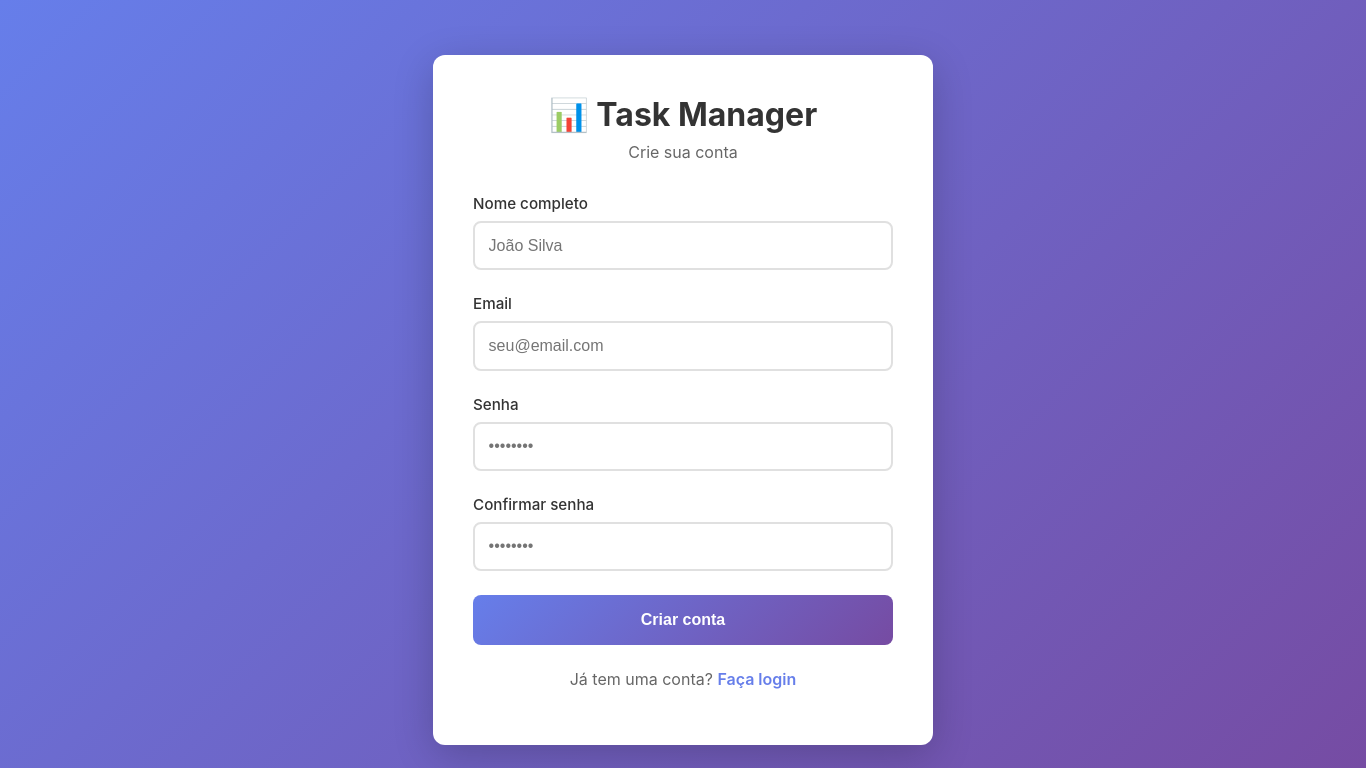
Register Page › deve validar nome mínimo de 3 caracteres
This screenshot has width=1366, height=768.
Type "Jo" into the field with test id "name-input". click: (683, 246)
box: [473,221,893,270]
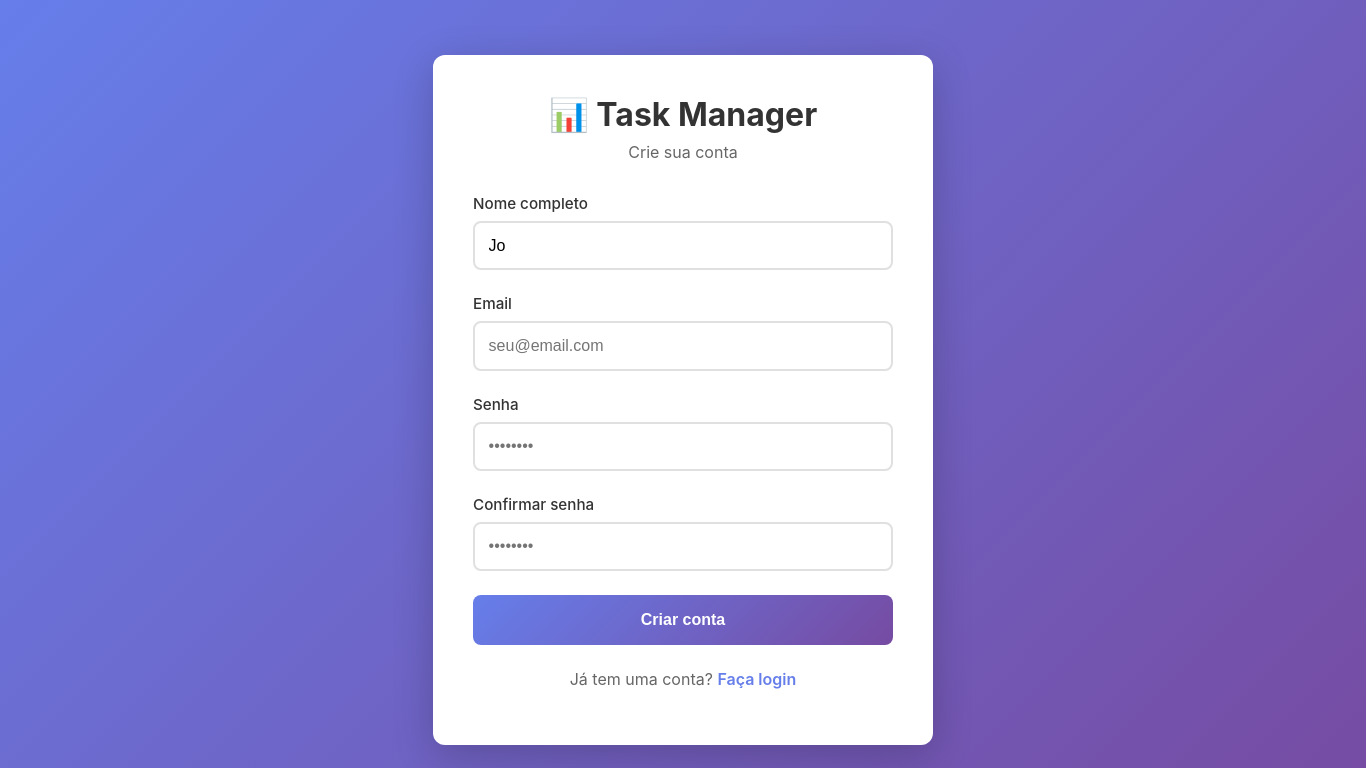
Type "joao@example.com" into the field with test id "email-input". click: (683, 346)
box: [473,321,893,370]
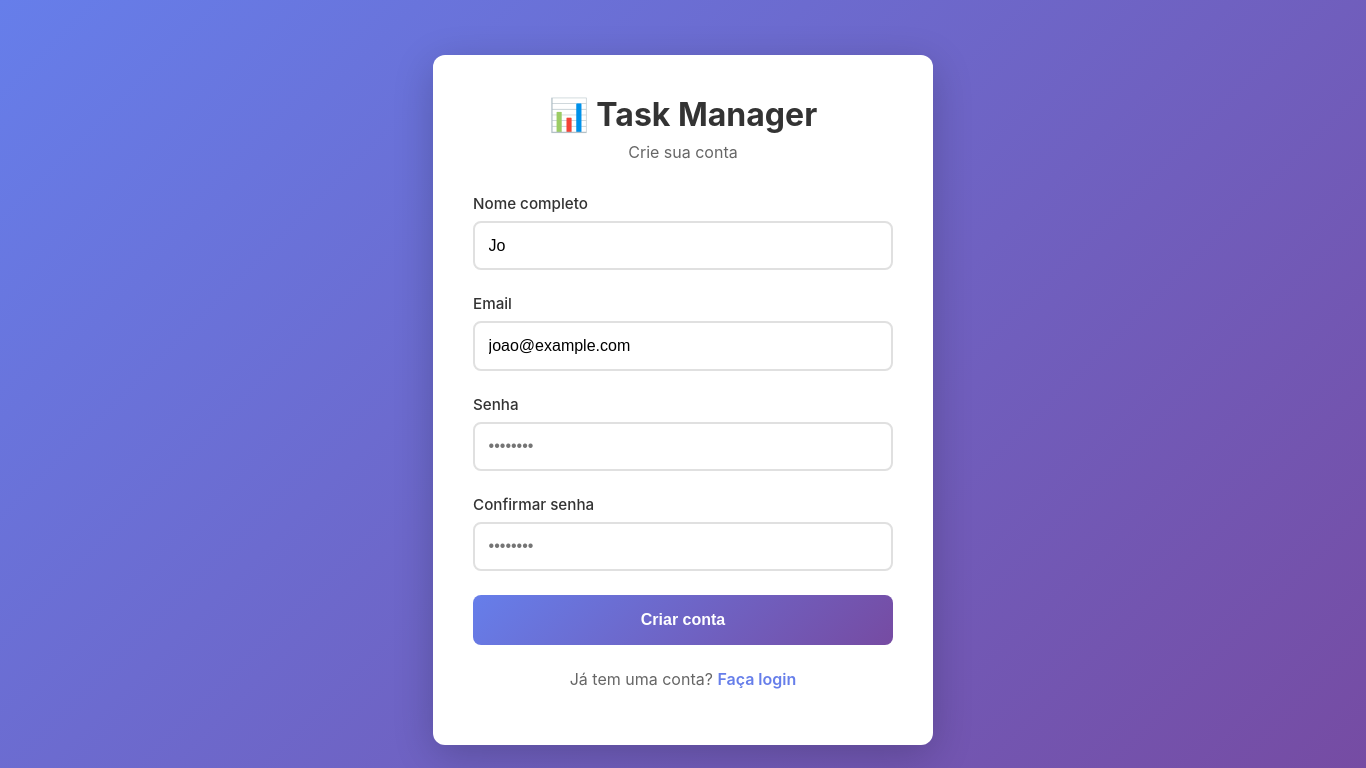
Type "senha123" into the password field with test id "password-input". click: (683, 446)
box: [473,422,893,471]
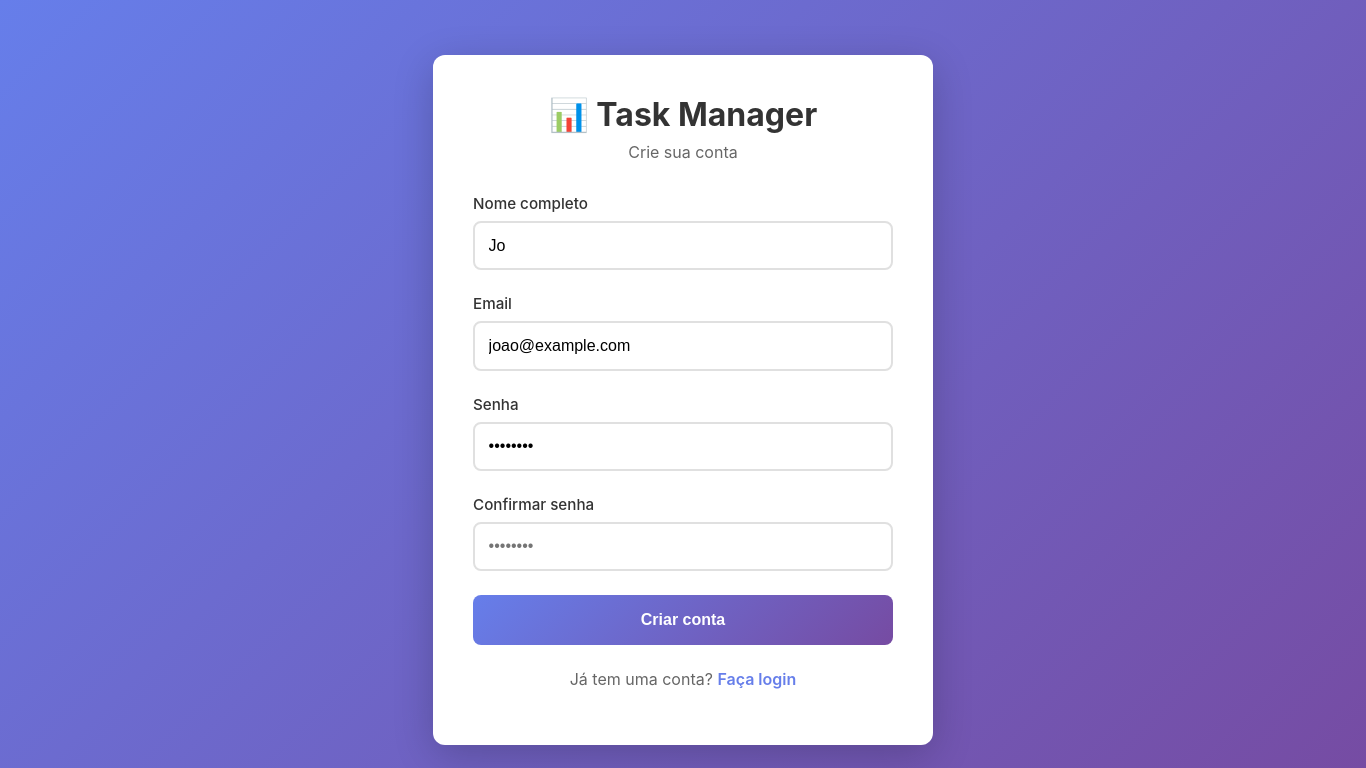
Type "senha123" into the password field with test id "confirm-password-input". click: (683, 546)
box: [473,522,893,571]
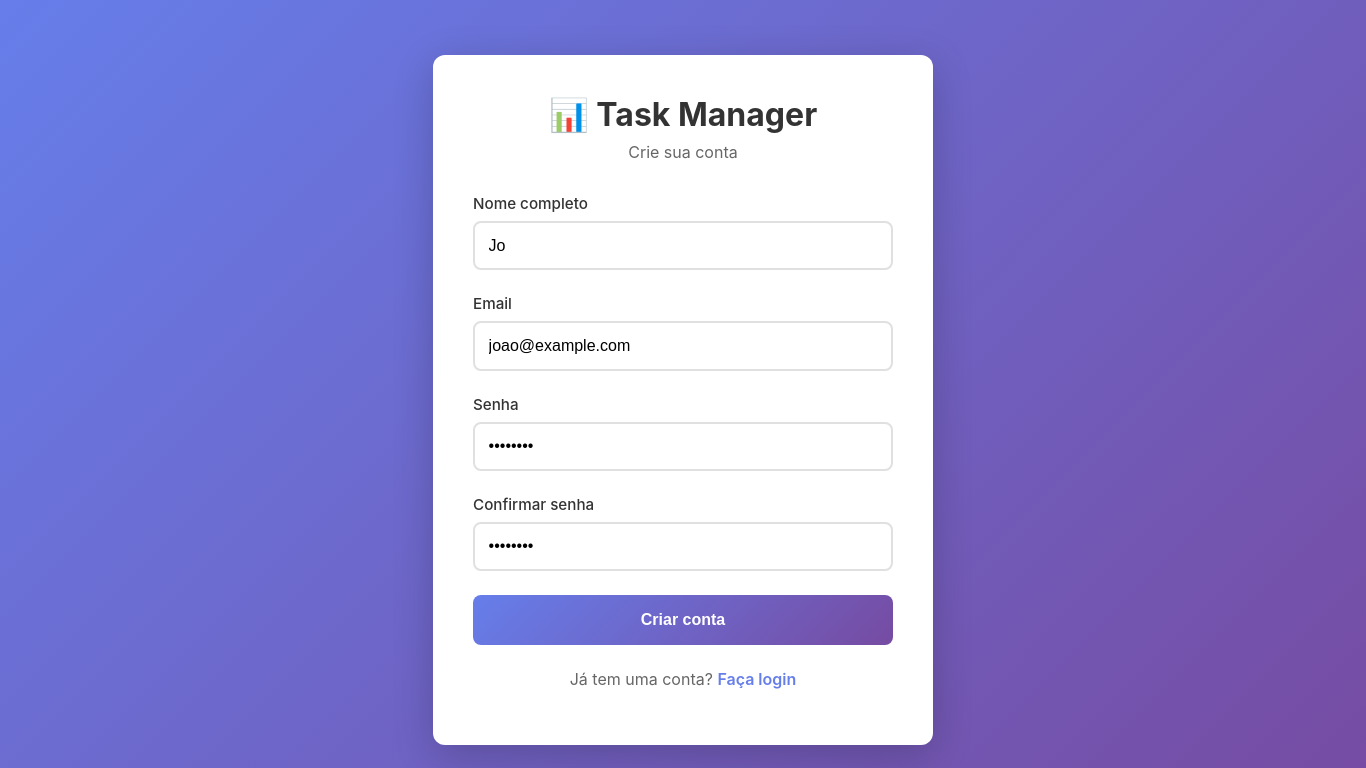
Click the button with test id "submit-button". click: (683, 620)
box: [473,595,893,645]
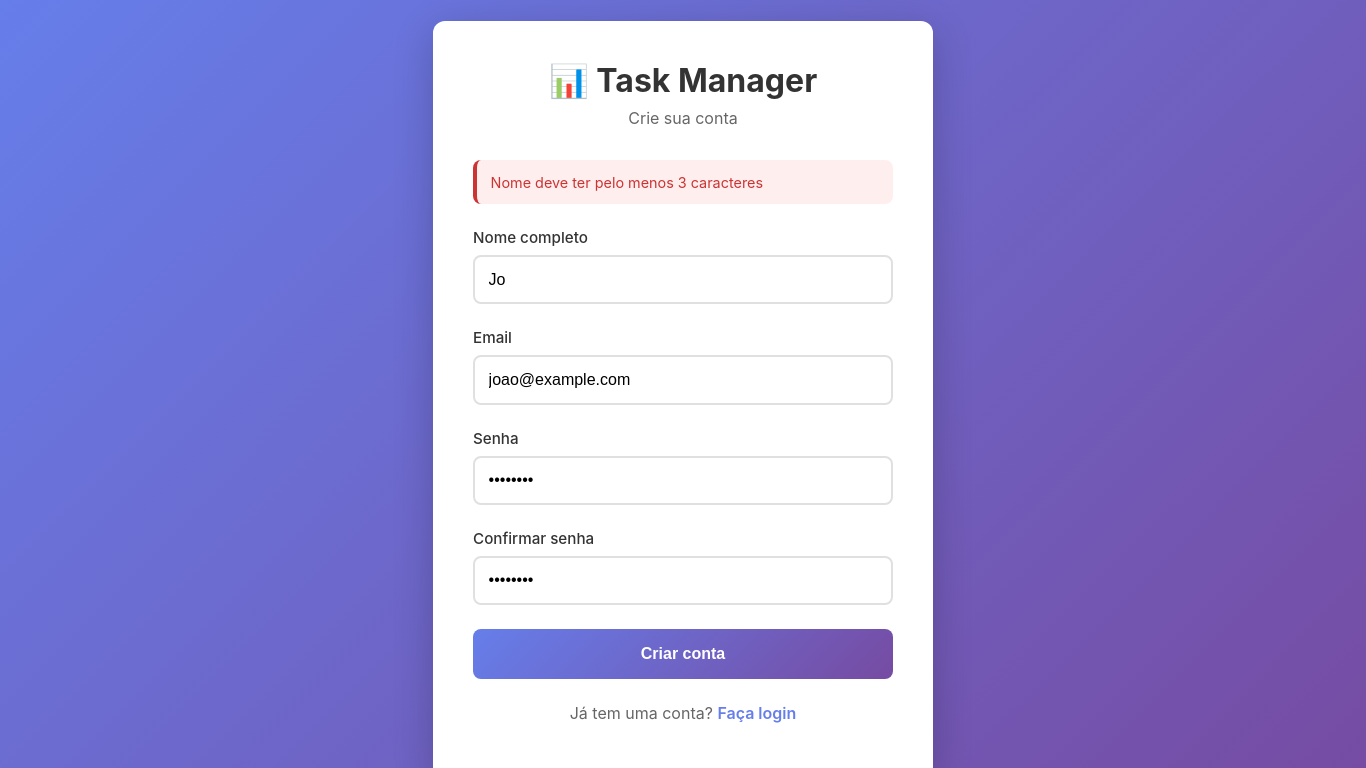
Now the text "Nome deve ter pelo menos 3 caracteres" is shown, box [473,160,893,204]
